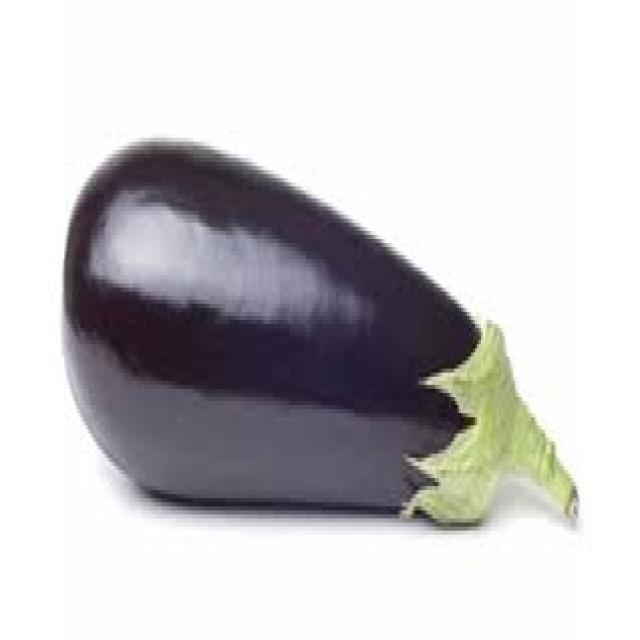Aubergine: (42, 101, 588, 580)
